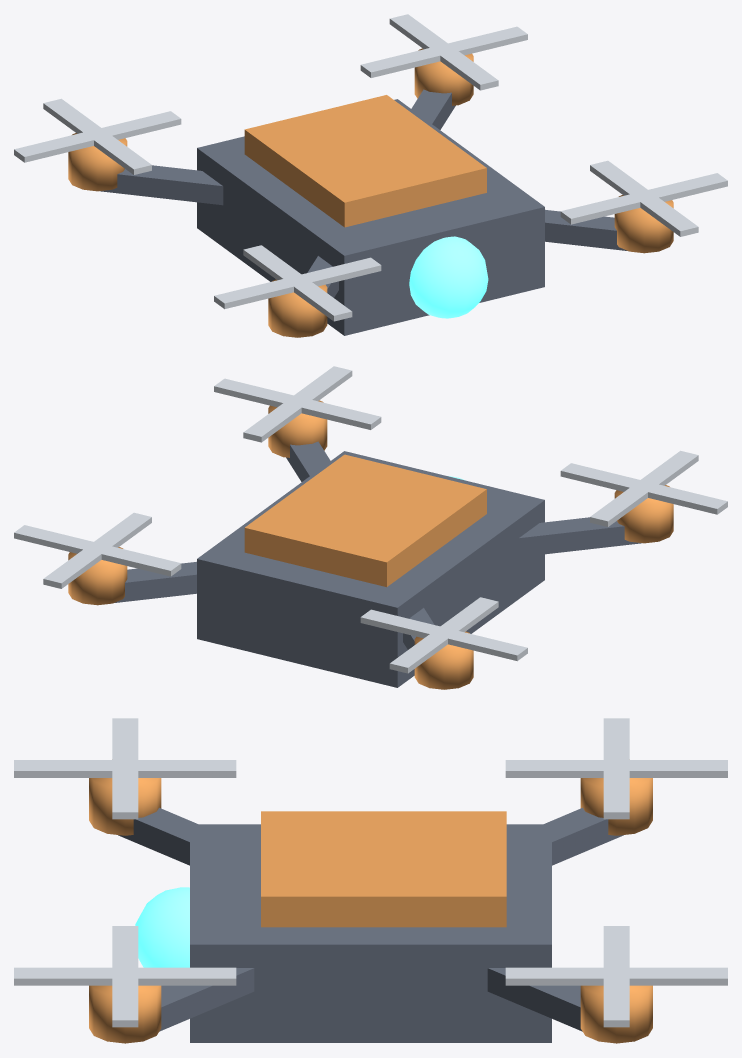
File: hover_drone.glb
The picture shows the model from 3 angles, top to bottom: view 1: azimuth 30°, elevation 25°; view 2: azimuth 150°, elevation 25°; view 3: azimuth 270°, elevation 25°; orthographic projection. The views are drawn at different scales.
Visible parts, largest first — view 1: Chassis, TopShell, ScannerEye, Arm_2, PropA_3, PropA_1, PropA_0, PropA_2, PropB_0, PropB_1, Motor_0, PropB_2 (+6 smaller); view 2: Chassis, TopShell, Arm_0, PropA_2, PropA_1, PropA_3, PropA_0, PropB_1, PropB_3, PropB_0, Motor_2, Motor_3 (+5 smaller); view 3: Chassis, TopShell, PropB_3, PropB_1, ScannerEye, PropB_0, PropB_2, Motor_1, Motor_3, Arm_1, Arm_3, PropA_0 (+7 smaller).
Part boxes in pixels (box(x1,y1,x2,y2)): Chassis: box(197, 99, 544, 335); TopShell: box(244, 95, 486, 227); ScannerEye: box(409, 236, 488, 318); Arm_2: box(100, 165, 223, 205); PropA_3: box(360, 26, 527, 77); PropA_1: box(560, 173, 727, 224); PropA_0: box(214, 257, 381, 309); PropA_2: box(14, 111, 181, 162); PropB_0: box(243, 245, 352, 321); PropB_1: box(590, 160, 698, 236); Motor_0: box(268, 279, 327, 337); PropB_2: box(43, 98, 151, 174); Chassis: box(197, 451, 544, 687); TopShell: box(244, 454, 486, 587); Arm_0: box(518, 517, 641, 557); PropA_2: box(360, 609, 527, 661); PropA_1: box(214, 378, 381, 429); PropA_3: box(14, 525, 181, 576); PropA_0: box(560, 463, 727, 514); PropB_1: box(243, 366, 352, 442); PropB_3: box(43, 512, 151, 588); PropB_0: box(590, 450, 698, 526); Motor_2: box(414, 631, 473, 689); Motor_3: box(68, 547, 127, 605); Chassis: box(190, 824, 551, 1042); TopShell: box(261, 811, 506, 927); PropB_3: box(505, 967, 727, 985); PropB_1: box(14, 967, 236, 985); ScannerEye: box(135, 887, 189, 967); PropB_0: box(14, 760, 236, 777); PropB_2: box(505, 760, 727, 777); Motor_1: box(89, 985, 161, 1043); Motor_3: box(580, 985, 652, 1043); Arm_1: box(159, 968, 254, 1031); Arm_3: box(487, 968, 582, 1031); PropA_0: box(112, 718, 138, 819).
Bounding box in the file's own units: 2.76 × 0.56 × 2.76.
